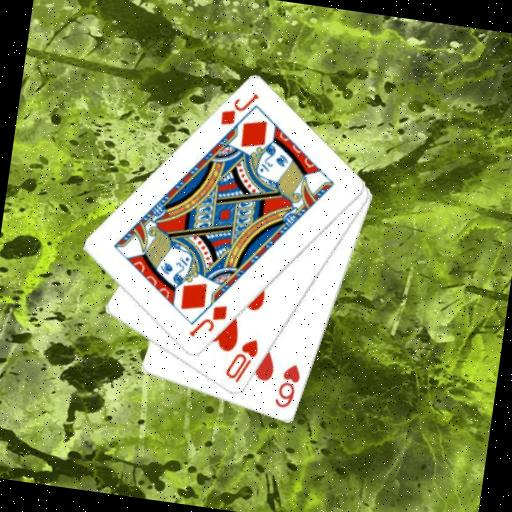10H: (221, 333, 262, 388)
6H: (271, 360, 305, 412)
JD: (185, 298, 230, 344), (217, 86, 262, 132)
